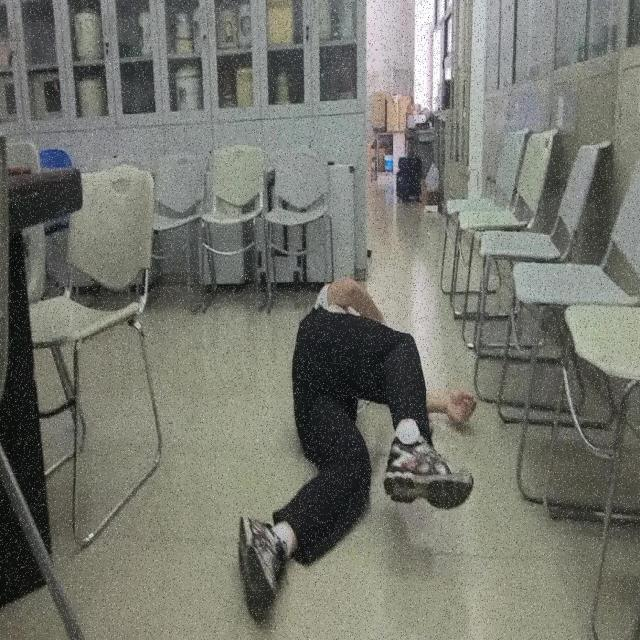fall: (237, 275, 476, 630)
